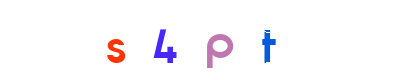4: (165, 0, 245, 80)
P: (167, 0, 247, 80)
S: (76, 0, 156, 80)
T: (173, 0, 253, 80)
